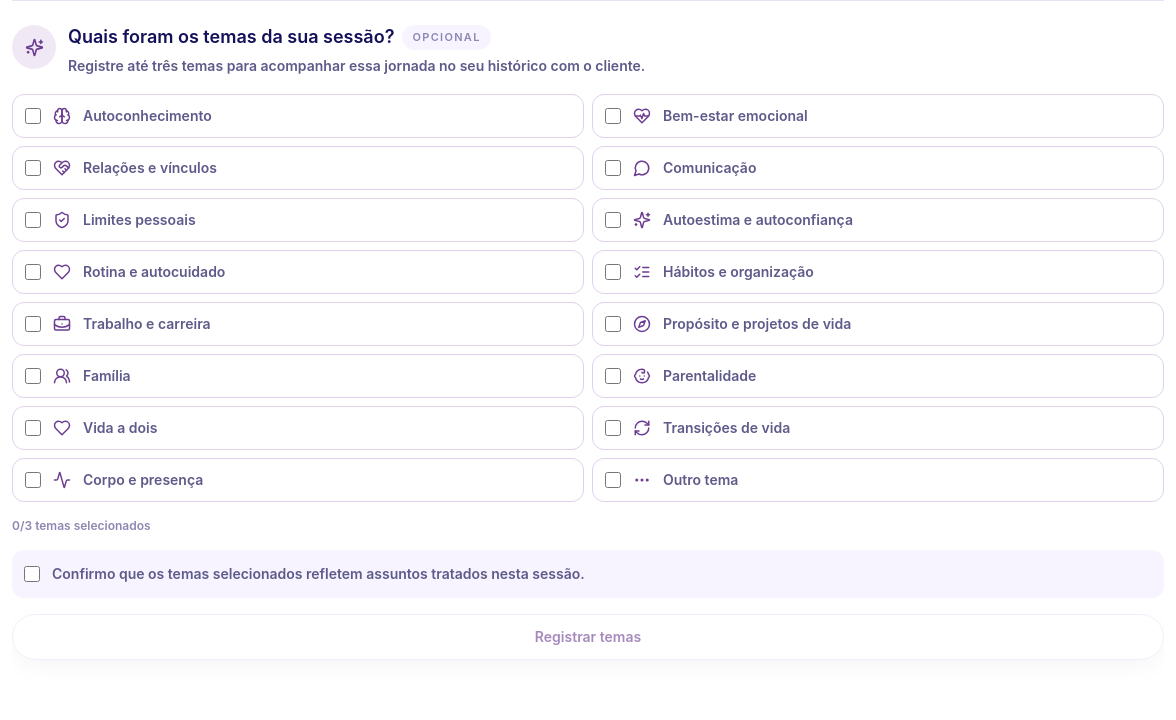
it: TherapistJourneyThemesForm › limits the selection to three themes and requires acknowledgement
The image size is (1176, 720).
Click the checkbox labelled "Autoconhecimento". click: (33, 116)
box: [25,108,41,124]
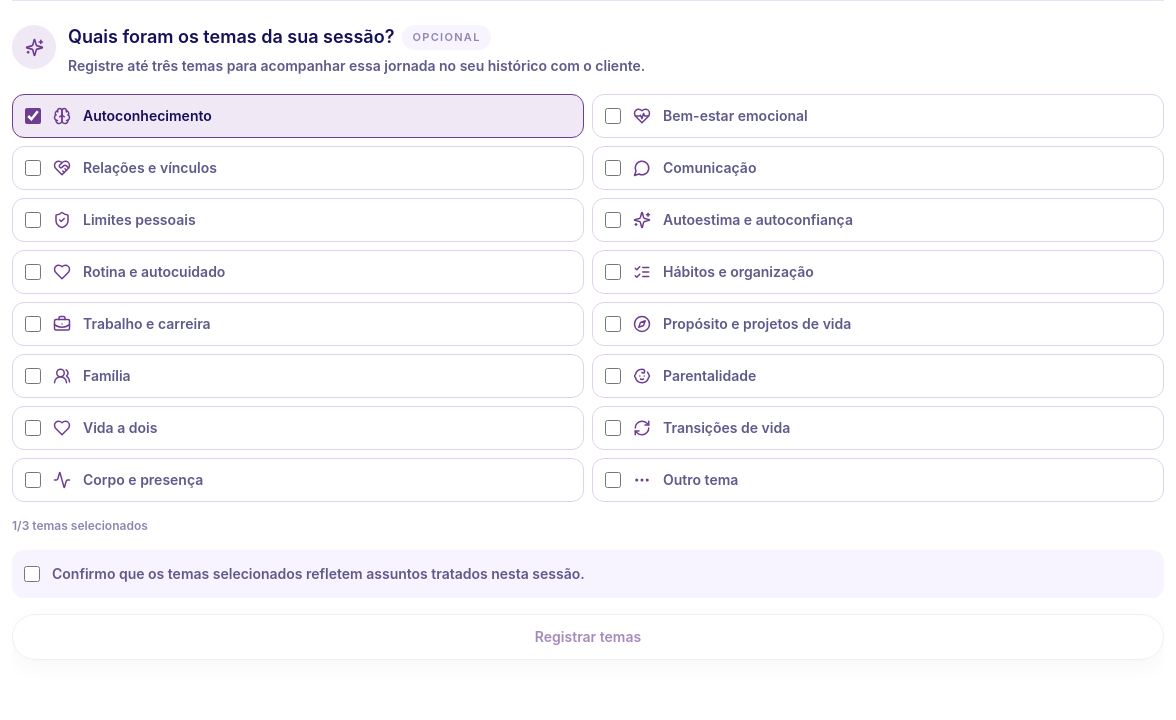
Click the checkbox labelled "Bem-estar emocional". click: (613, 116)
box: [605,108,621,124]
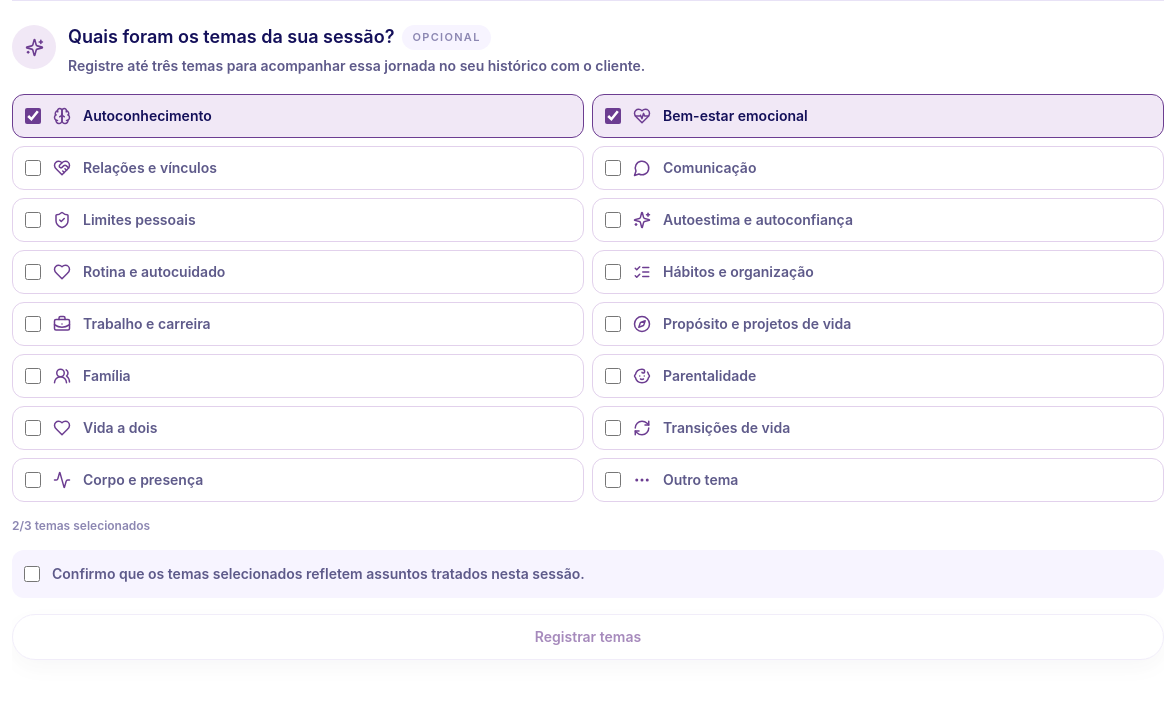
Click the checkbox labelled "Relações e vínculos". click: (33, 168)
box: [25,160,41,176]
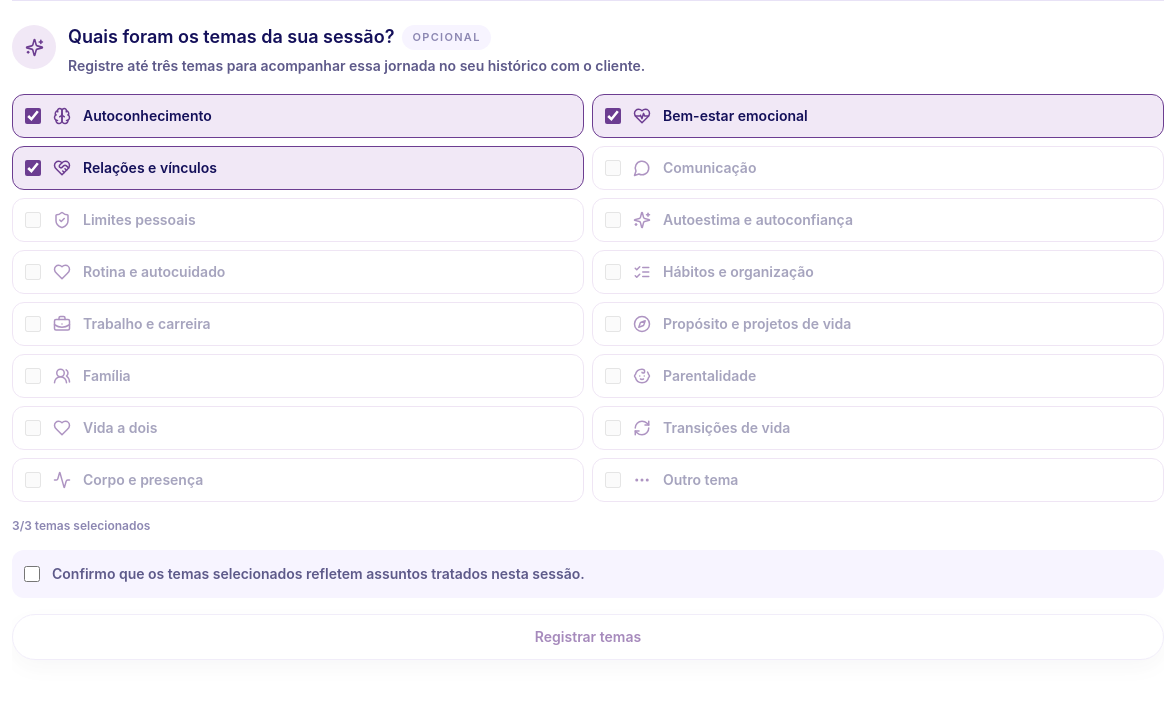
Expected: the button "Registrar temas" is disabled, [12,614,1164,660]
Now the checkbox labelled "Comunicação" is disabled, box [605,160,621,176]
Click the checkbox labelled "Confirmo que os temas selecionados refletem assuntos tratados nesta sessão.". click: (32, 574)
box: [24,566,40,582]
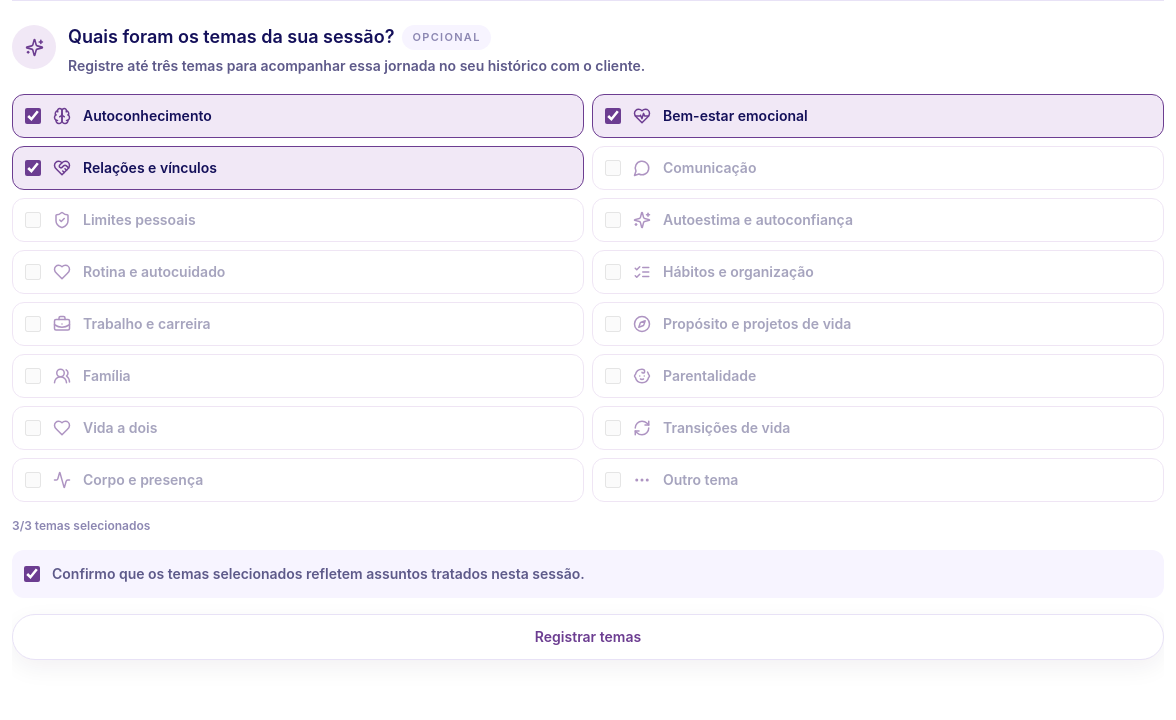
Now the button "Registrar temas" is enabled, box [12,614,1164,660]
Click the checkbox labelled "Autoconhecimento". click: (33, 116)
box: [25,108,41,124]
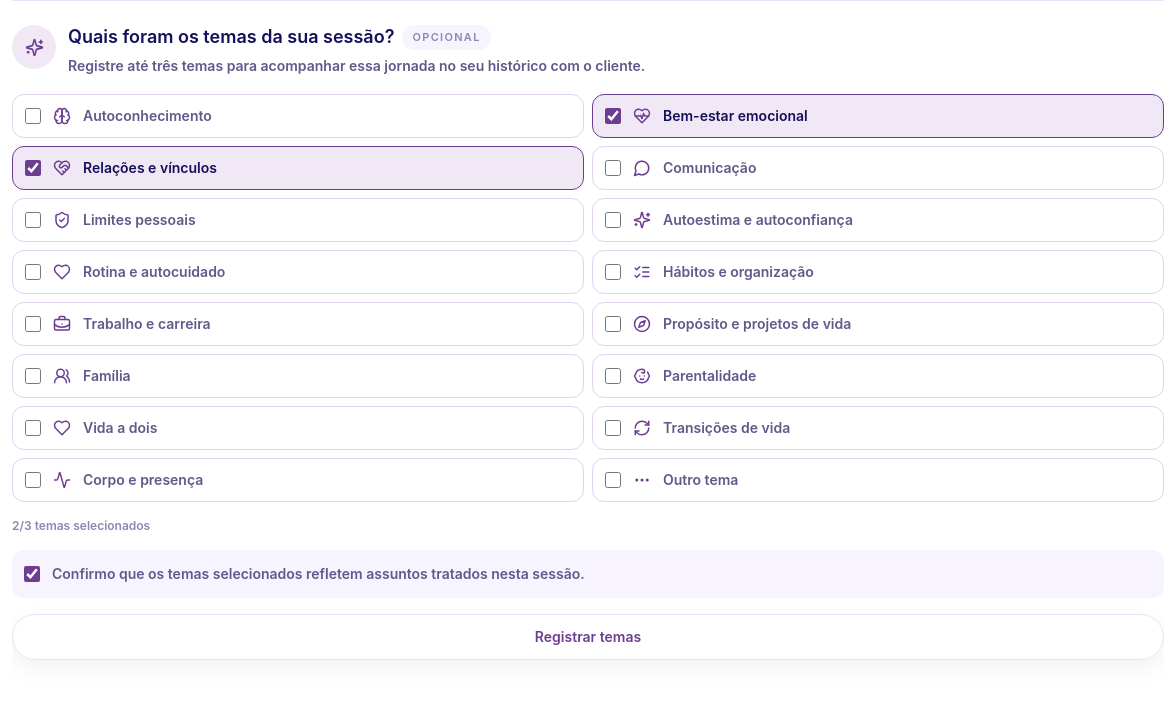
Now the checkbox labelled "Comunicação" is enabled, box [605,160,621,176]
Now the text "2/3 temas selecionados" is shown, box [12,518,150,532]
